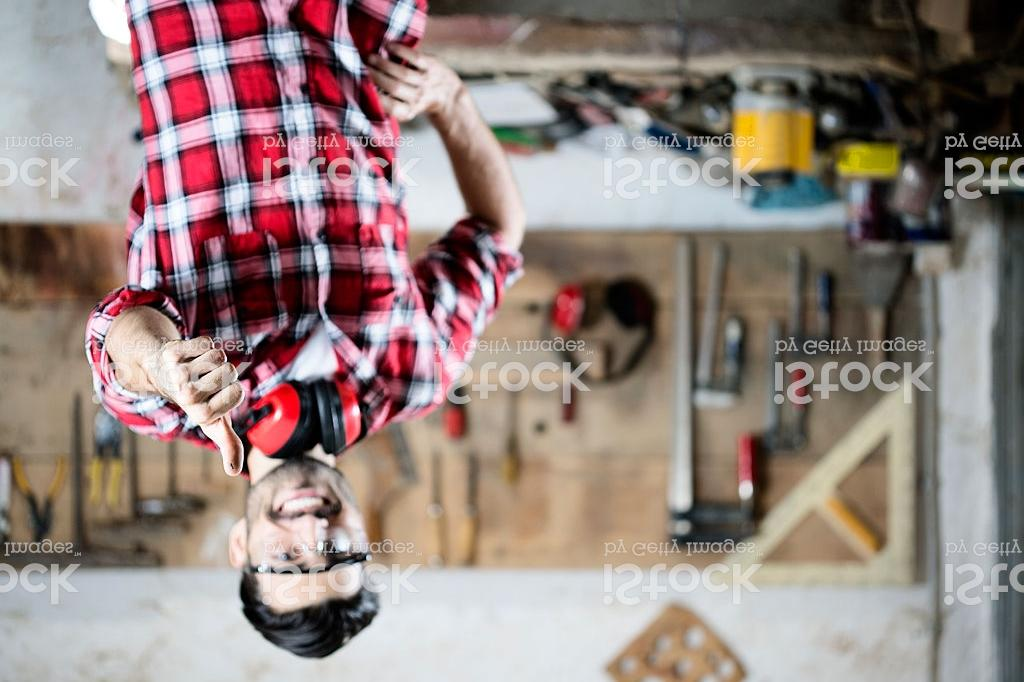thumbsdown: (163, 333, 249, 478)
